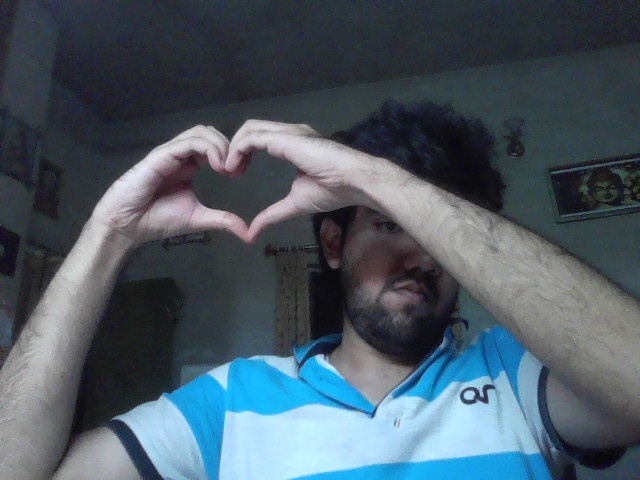Love: (101, 118, 349, 246)
